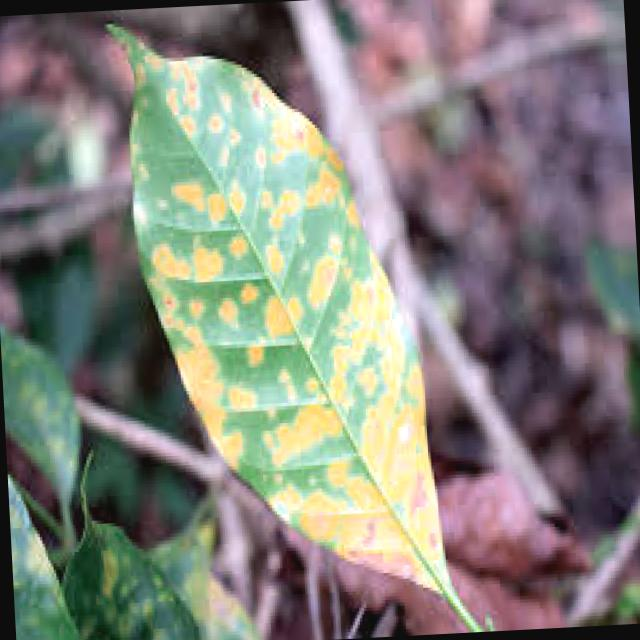leaf_rust: (110, 27, 481, 629)
